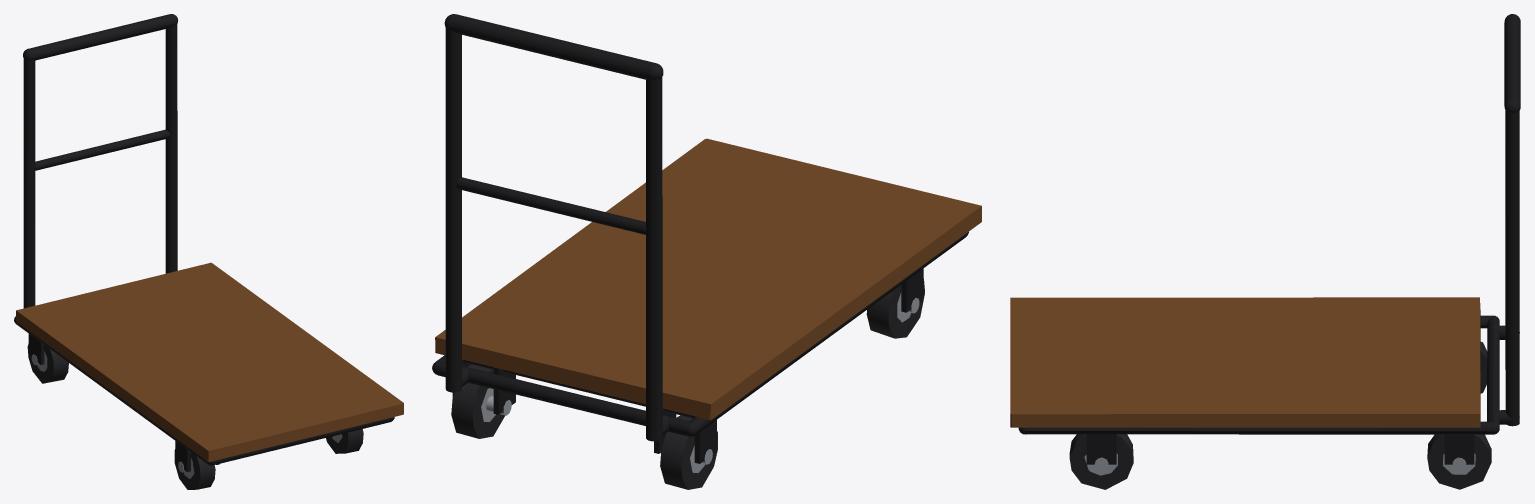
Rendered from luggagecart.glb.
The picture shows the model from 3 angles, left to right: view 1: azimuth 30°, elevation 25°; view 2: azimuth 150°, elevation 25°; view 3: azimuth 270°, elevation 25°; orthographic projection. The views are drawn at different scales.
Parts seen in each view (by area): view 1: deck, frame, wheel_front_left, wheel_rear_left, wheel_front_right; view 2: deck, frame, wheel_rear_left, wheel_rear_right, wheel_front_left; view 3: deck, frame, wheel_front_right, wheel_rear_right.
Boxes of the visible parts, <box> form: deck: <box>16,262,403,461</box>; frame: <box>14,14,394,472</box>; wheel_front_left: <box>174,449,215,489</box>; wheel_rear_left: <box>27,344,68,383</box>; wheel_front_right: <box>326,429,363,453</box>; deck: <box>435,138,981,419</box>; frame: <box>432,14,968,464</box>; wheel_rear_left: <box>660,415,717,489</box>; wheel_rear_right: <box>451,364,505,438</box>; wheel_front_left: <box>866,279,924,338</box>; deck: <box>1010,297,1480,427</box>; frame: <box>1018,14,1520,470</box>; wheel_front_right: <box>1069,434,1133,489</box>; wheel_rear_right: <box>1427,434,1491,489</box>.
Bounding box in the file's own units: 0.6496 × 0.9961 × 1.2.
